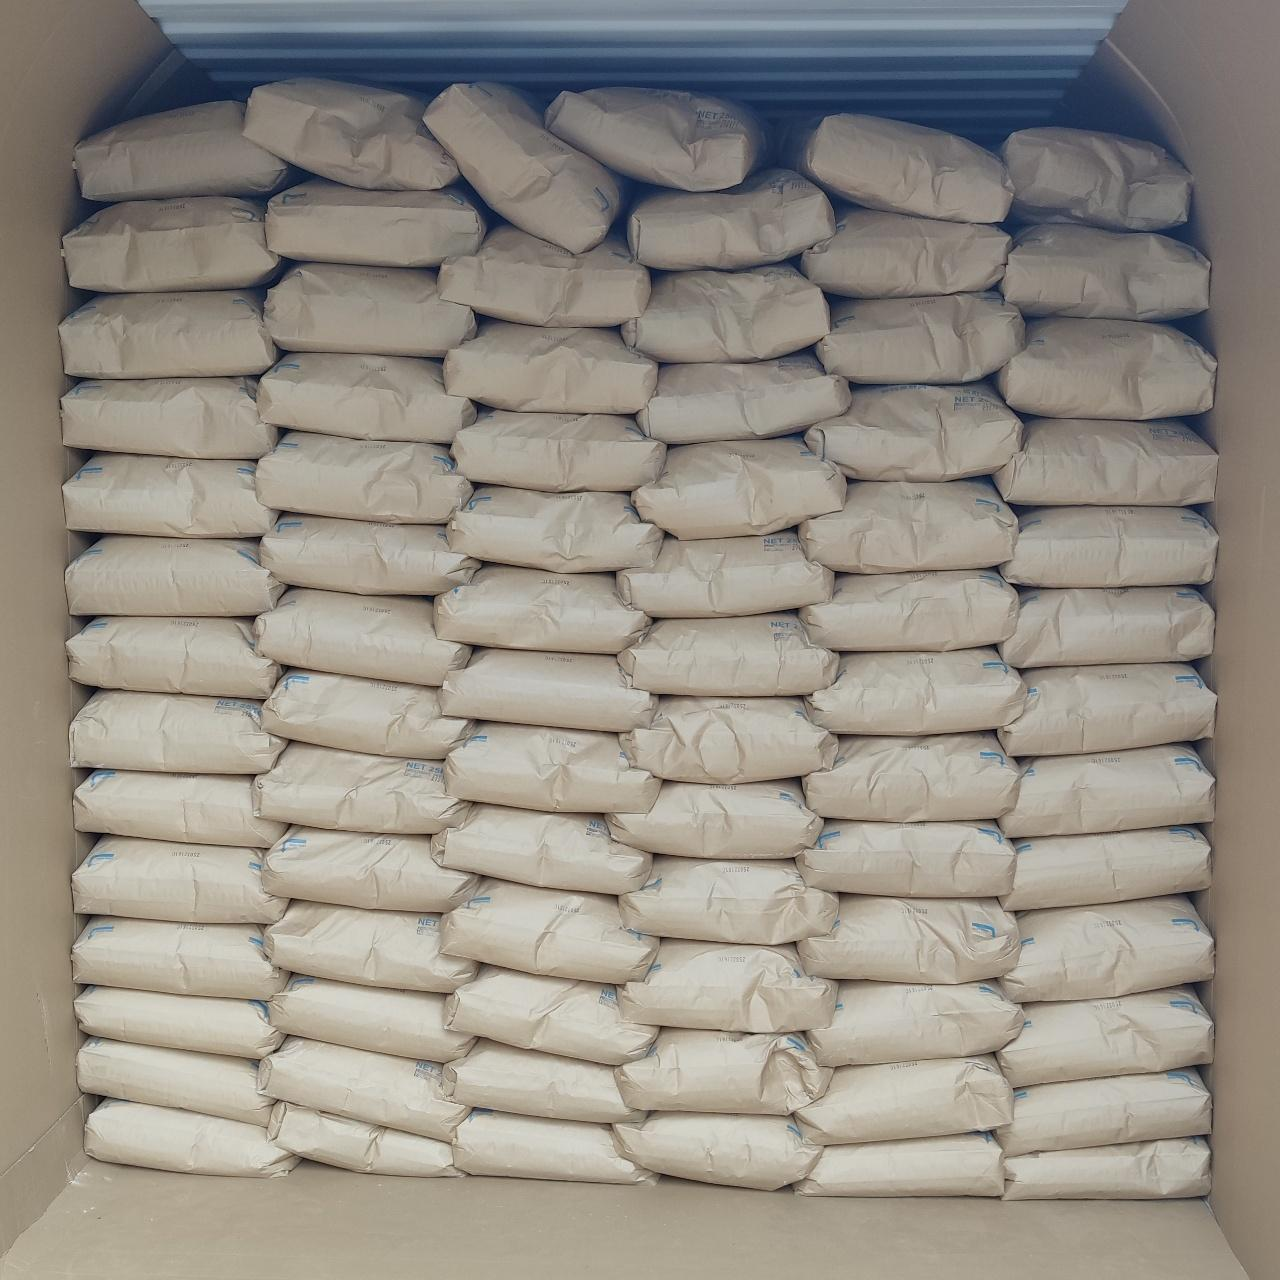sack: (424, 82, 622, 248), (794, 114, 1010, 222), (248, 80, 456, 190), (549, 88, 764, 190), (442, 880, 656, 982), (1000, 898, 1214, 998), (260, 1040, 468, 1141), (998, 318, 1214, 414), (806, 382, 1022, 478), (76, 102, 292, 198), (629, 168, 832, 270), (1000, 988, 1212, 1085), (440, 226, 646, 326), (254, 588, 468, 685), (634, 438, 846, 535), (1000, 663, 1214, 756), (448, 966, 654, 1062), (802, 481, 1014, 572), (66, 198, 278, 290), (1000, 745, 1214, 836), (620, 940, 835, 1030), (266, 264, 474, 356), (624, 264, 828, 358), (1002, 224, 1206, 318), (1002, 128, 1190, 230), (799, 896, 1020, 982), (445, 320, 654, 411), (434, 804, 651, 892), (638, 352, 847, 442), (258, 433, 470, 522), (808, 648, 1026, 734), (264, 903, 476, 990), (796, 1056, 1012, 1142), (263, 670, 472, 758), (74, 836, 286, 922), (448, 486, 662, 572), (802, 206, 1010, 294), (260, 354, 474, 440), (620, 858, 836, 942), (806, 734, 1016, 821), (445, 724, 658, 810), (436, 566, 648, 652), (256, 744, 468, 830), (996, 418, 1214, 502), (268, 181, 486, 264), (816, 294, 1022, 382), (620, 697, 835, 782), (263, 826, 478, 910), (62, 292, 275, 374), (618, 532, 830, 614), (810, 982, 1022, 1064), (72, 690, 284, 772), (74, 915, 286, 998), (617, 1028, 828, 1110), (620, 614, 836, 694), (263, 515, 478, 594), (996, 1070, 1210, 1150), (66, 454, 275, 535), (1000, 828, 1210, 908), (442, 651, 654, 730), (68, 536, 282, 614), (802, 570, 1016, 648), (268, 976, 470, 1060), (70, 618, 278, 697), (62, 377, 278, 454), (1000, 588, 1212, 666), (444, 1040, 642, 1122), (80, 1039, 270, 1124), (608, 779, 821, 856), (454, 410, 662, 488), (1002, 508, 1214, 583), (76, 770, 284, 846), (798, 822, 1014, 894), (86, 1099, 294, 1175), (614, 1114, 822, 1189), (267, 1101, 459, 1176), (76, 988, 282, 1056), (456, 1110, 652, 1182), (796, 1133, 1000, 1196), (1005, 1138, 1208, 1198)
